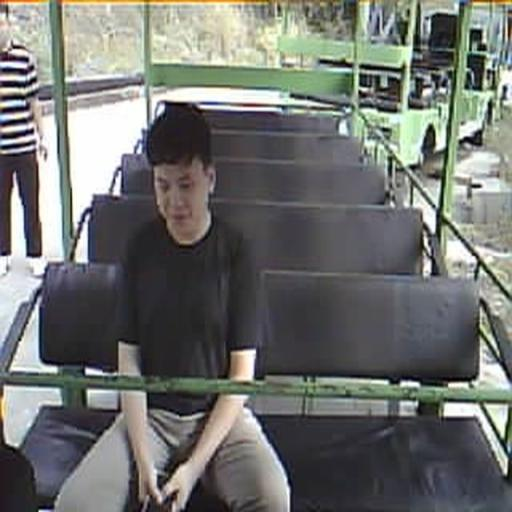persona: (54, 100, 292, 510)
